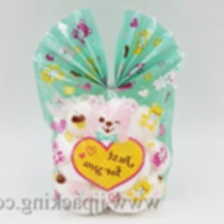snack: (25, 0, 192, 221)
